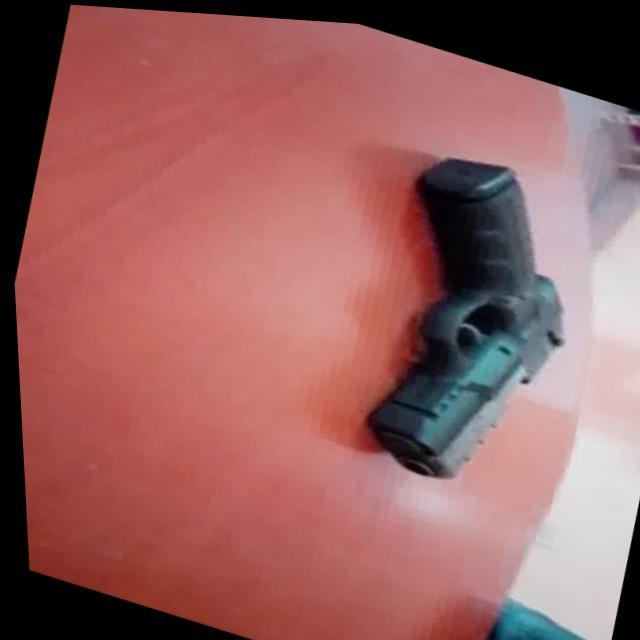weapon: (338, 128, 608, 506)
